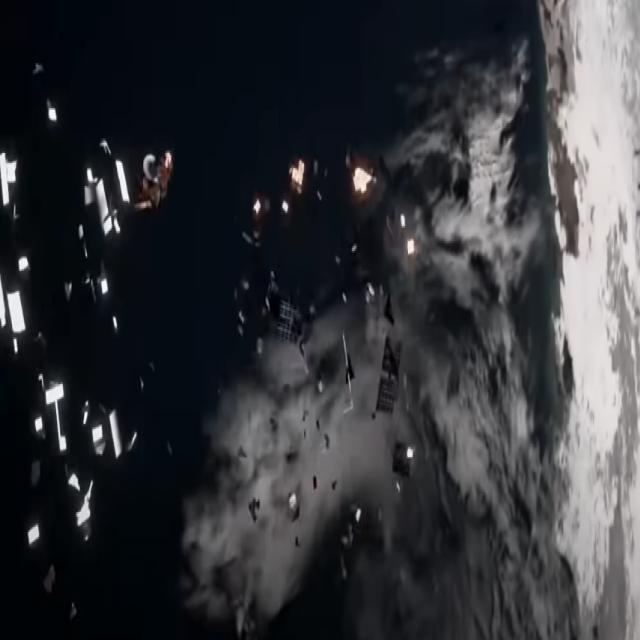large_debris: (38, 368, 90, 536), (84, 130, 130, 258), (64, 229, 117, 331), (84, 392, 130, 474), (380, 320, 408, 438), (135, 154, 178, 229), (328, 314, 356, 426), (287, 149, 315, 234), (0, 276, 24, 373), (0, 137, 27, 223), (349, 144, 379, 221), (274, 279, 298, 371), (244, 482, 271, 555), (340, 498, 356, 617), (393, 429, 417, 506), (249, 183, 275, 253), (231, 276, 251, 342), (284, 476, 304, 540), (23, 508, 42, 556)
